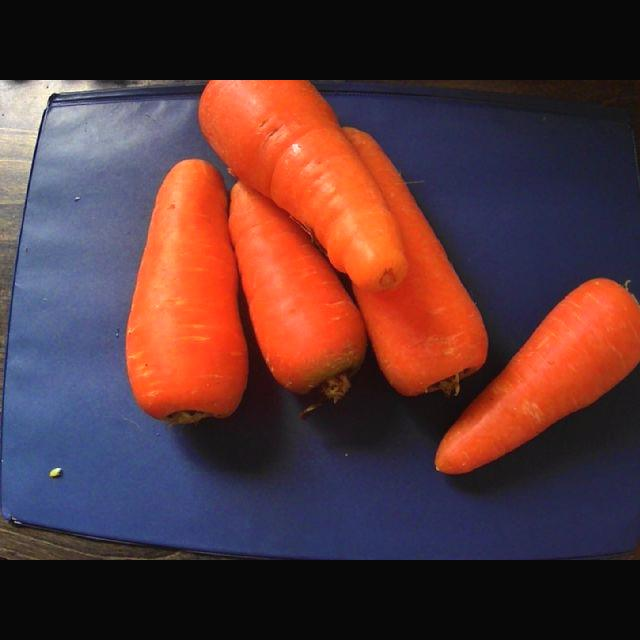zanahoria: (199, 80, 408, 290), (437, 278, 640, 474), (344, 127, 487, 395), (127, 160, 248, 423), (231, 182, 366, 409)
